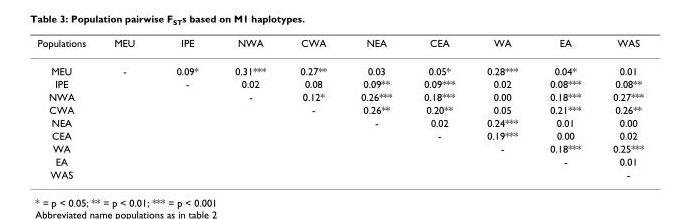table: (36, 36, 643, 180)
table column: (216, 36, 282, 180), (343, 36, 407, 180), (36, 36, 99, 180), (407, 36, 470, 180), (470, 36, 533, 180), (533, 36, 596, 180), (154, 36, 216, 180), (282, 36, 343, 180), (99, 36, 154, 180), (596, 36, 643, 180)
table column header: (36, 36, 643, 56)
table row: (36, 56, 643, 77), (36, 36, 643, 56), (36, 77, 643, 90), (36, 102, 643, 115), (36, 115, 643, 128), (36, 128, 643, 141), (36, 141, 643, 154), (36, 154, 643, 167), (36, 167, 643, 180), (36, 90, 643, 102)
